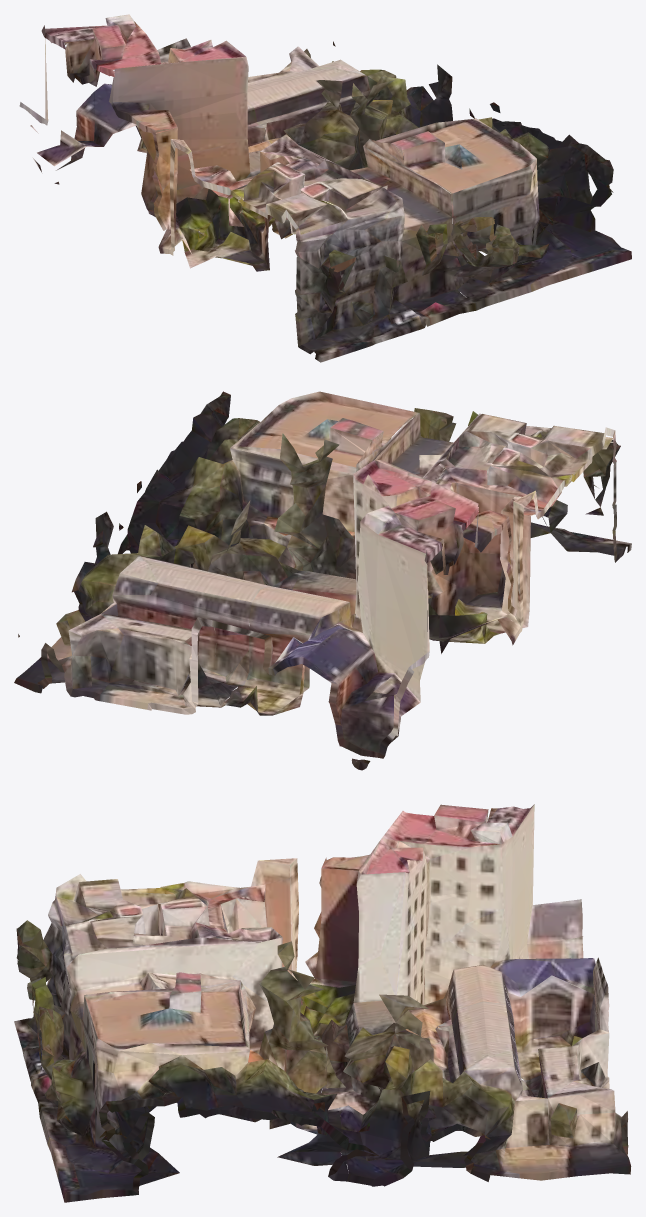
The picture shows the model from 3 angles, top to bottom: view 1: azimuth 30°, elevation 25°; view 2: azimuth 150°, elevation 25°; view 3: azimuth 270°, elevation 25°; orthographic projection. The views are drawn at different scales.
Visible parts, largest first — view 1: Mesh_0; view 2: Mesh_0; view 3: Mesh_0.
Part boxes in pixels (bbox=[...]): Mesh_0: bbox=[19, 14, 631, 362]; Mesh_0: bbox=[14, 391, 631, 770]; Mesh_0: bbox=[14, 804, 631, 1202].
Bounding box in the file's own units: 67.5 × 32.59 × 82.73.
1 material, 1 textured.
